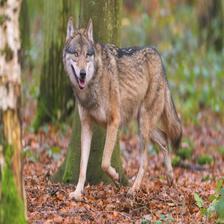WOLF: (59, 17, 179, 197)
